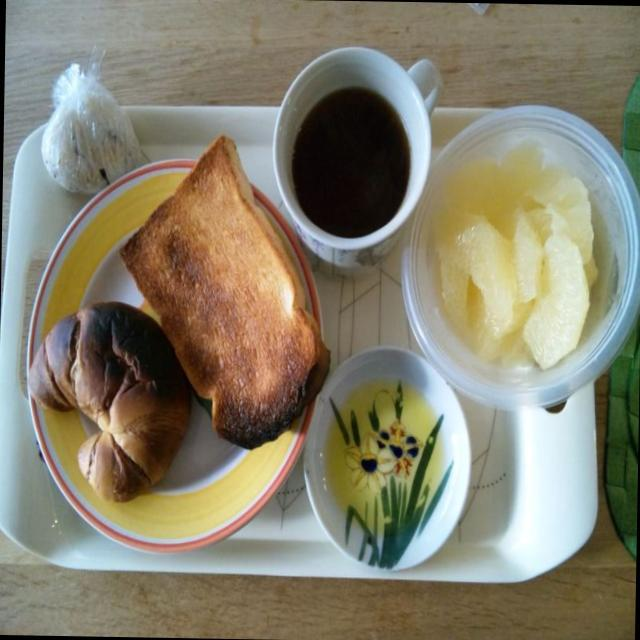Croissant: (11, 296, 203, 516)
